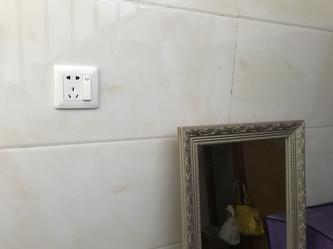switch: (82, 72, 93, 101)
